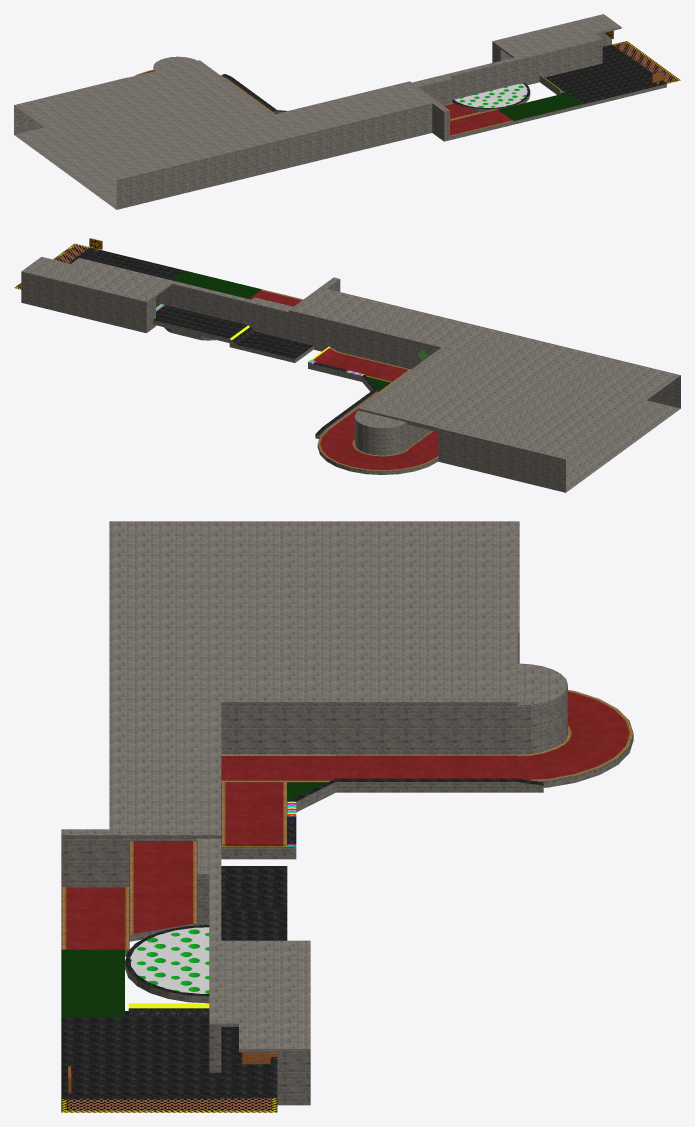
3 renders of one model, top to bottom at view 1: azimuth 30°, elevation 25°; view 2: azimuth 150°, elevation 25°; view 3: azimuth 270°, elevation 25°, orthographic. The views are drawn at different scales.
Visible parts, largest first — view 1: castle_SKP__blocks, castle_SKP__dark_road, castle_SKP__Test_Castle_2019_v4_1_SKP__3ds_bc_road, castle_SKP__Test_Castle_2019_v4_1_SKP__mansion_yeard, castle_SKP__Test_Castle_2019_v4_1_SKP__eerre, castle_SKP__metalgrid; view 2: castle_SKP__blocks, castle_SKP__Test_Castle_2019_v4_1_SKP__3ds_bc_road, castle_SKP__dark_road, castle_SKP__Test_Castle_2019_v4_1_SKP__mansion_yeard; view 3: castle_SKP__blocks, castle_SKP__Test_Castle_2019_v4_1_SKP__3ds_bc_road, castle_SKP__dark_road, castle_SKP__Test_Castle_2019_v4_1_SKP__mansion_yeard, castle_SKP__Test_Castle_2019_v4_1_SKP__eerre, castle_SKP__metalgrid.
Part boxes in pixels (x1,y1,x2,y2): castle_SKP__blocks: [14, 14, 666, 209]; castle_SKP__dark_road: [222, 44, 666, 111]; castle_SKP__Test_Castle_2019_v4_1_SKP__3ds_bc_road: [135, 70, 513, 136]; castle_SKP__Test_Castle_2019_v4_1_SKP__mansion_yeard: [274, 93, 581, 120]; castle_SKP__Test_Castle_2019_v4_1_SKP__eerre: [454, 83, 527, 107]; castle_SKP__metalgrid: [614, 42, 676, 82]; castle_SKP__blocks: [21, 257, 680, 492]; castle_SKP__Test_Castle_2019_v4_1_SKP__3ds_bc_road: [249, 289, 438, 470]; castle_SKP__dark_road: [69, 247, 377, 435]; castle_SKP__Test_Castle_2019_v4_1_SKP__mansion_yeard: [172, 270, 390, 391]; castle_SKP__blocks: [61, 521, 633, 1105]; castle_SKP__Test_Castle_2019_v4_1_SKP__3ds_bc_road: [61, 690, 633, 949]; castle_SKP__dark_road: [61, 778, 543, 1099]; castle_SKP__Test_Castle_2019_v4_1_SKP__mansion_yeard: [61, 782, 326, 1016]; castle_SKP__Test_Castle_2019_v4_1_SKP__eerre: [130, 927, 209, 993]; castle_SKP__metalgrid: [67, 1098, 271, 1110].
Size of what is drawn, in the model's own units: 79814 by 4107 by 35793.
Materials: 14 (14 with a texture image).
